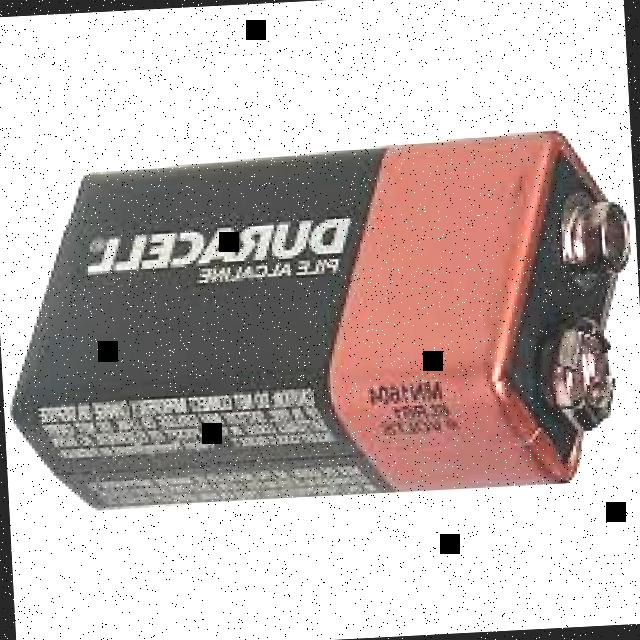battery: (11, 127, 631, 511)
